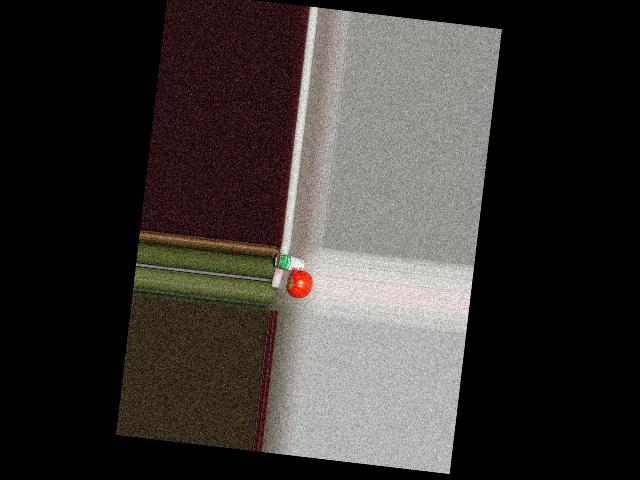tomato: (287, 269, 313, 299)
